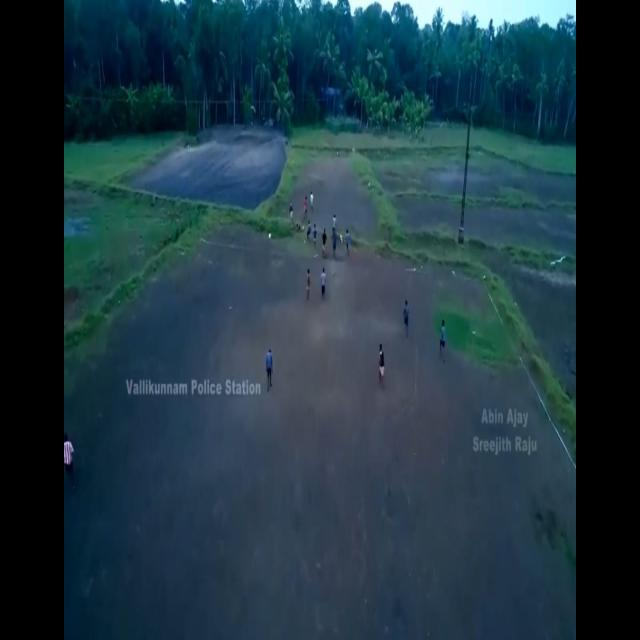humans: (63, 424, 79, 492), (262, 338, 278, 393), (375, 331, 387, 386), (436, 312, 448, 359), (329, 204, 338, 258), (303, 265, 314, 300), (401, 295, 411, 333), (319, 266, 328, 301), (321, 216, 328, 258), (308, 188, 316, 217), (344, 223, 351, 256), (302, 190, 309, 219), (312, 218, 318, 248), (288, 199, 294, 223)
